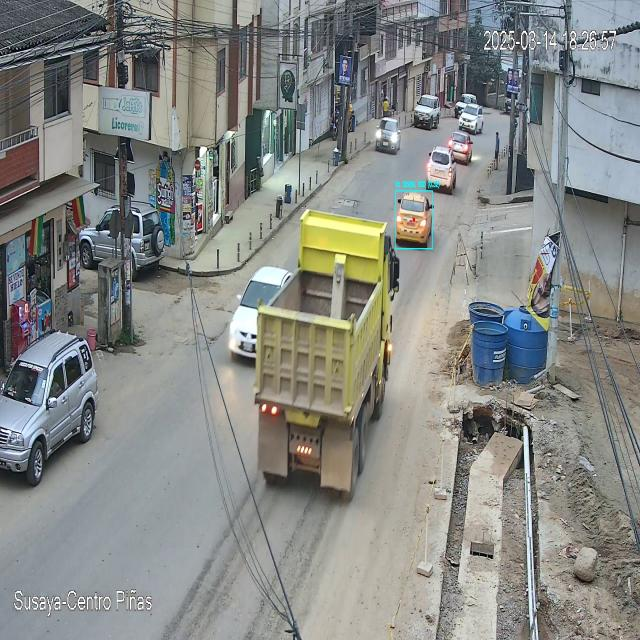SUV: (1, 333, 102, 486)
TRUCK: (254, 210, 392, 502)
